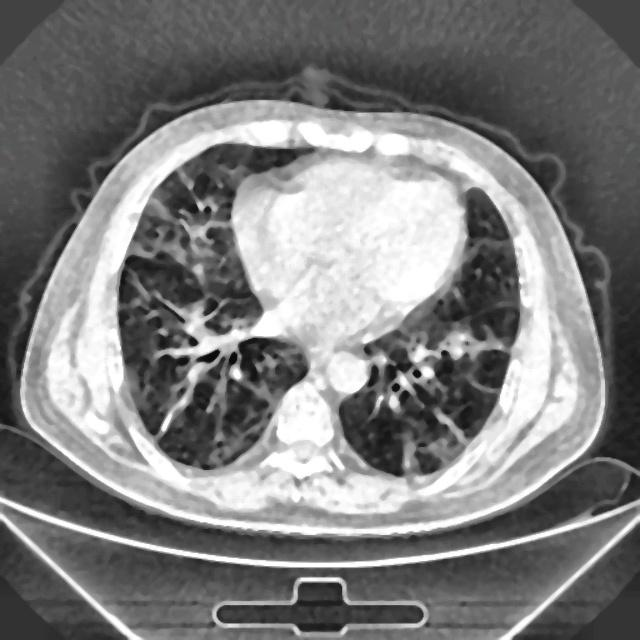covid: (19, 87, 609, 538)
